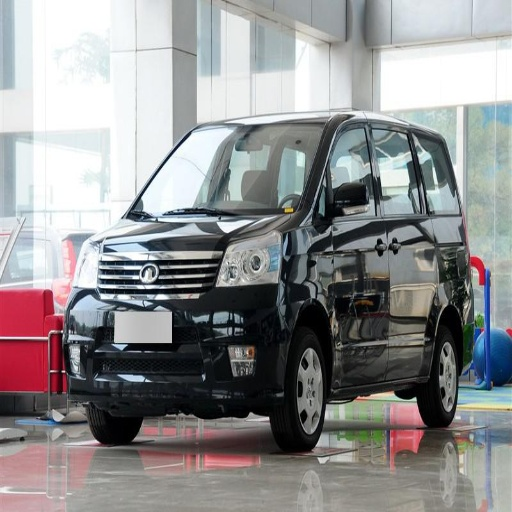front_bumper: (69, 249, 285, 404)
front_glass: (125, 123, 326, 217)
front_left_door: (308, 119, 393, 376)
